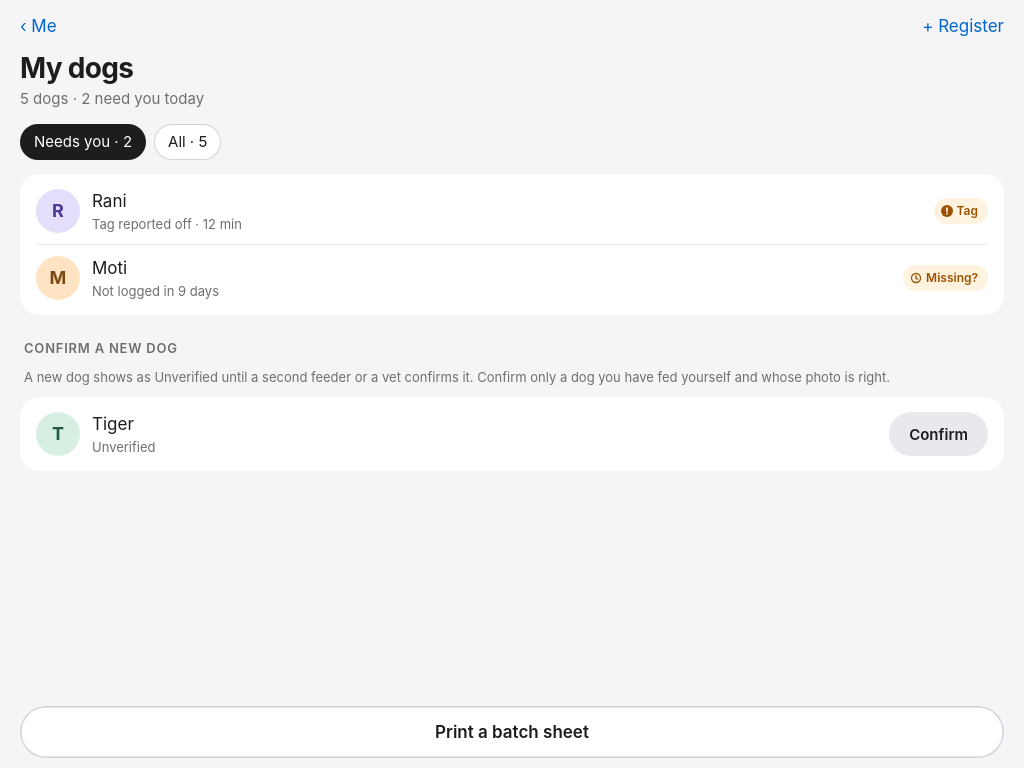
Test: N4 My dogs › All shows every dog with its pill and sub line
Click the button "All · 5" at (188, 142), box 154,124 -> 221,160
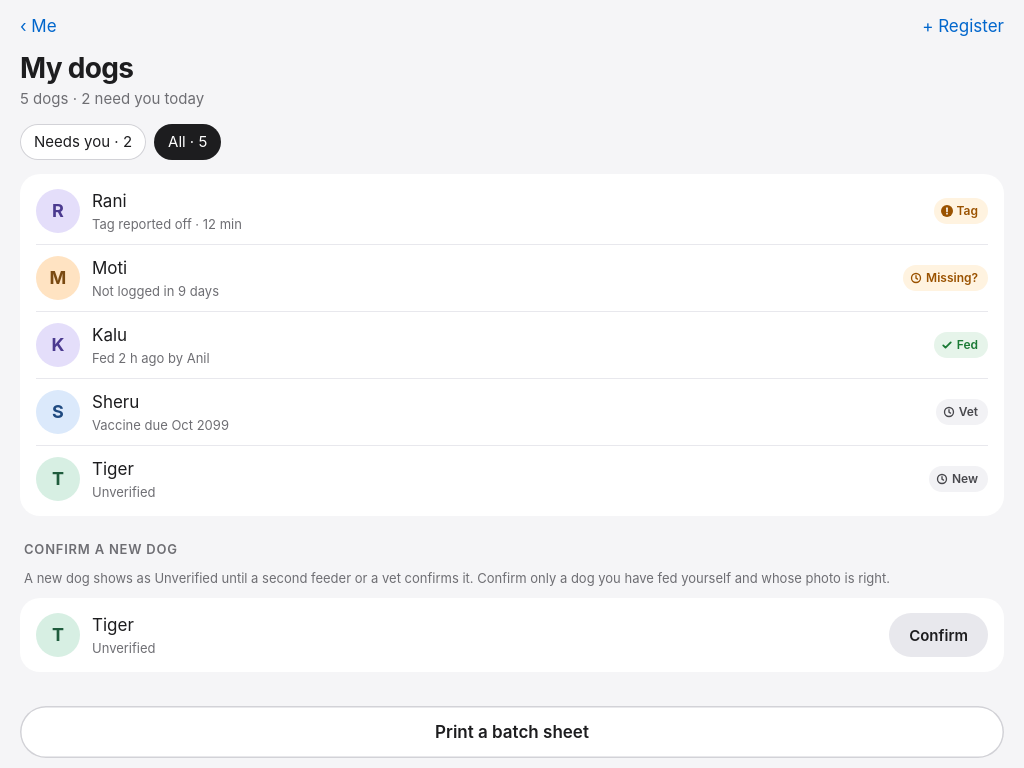
Expected: the text "Fed 2 h ago by Anil" is shown, 92,350 -> 210,366
Expected: the text "Vaccine due Oct 2099" is shown, 92,417 -> 229,433
Expected: the text "Unverified" below "Vaccine due Oct 2099" is shown, 92,484 -> 156,500
